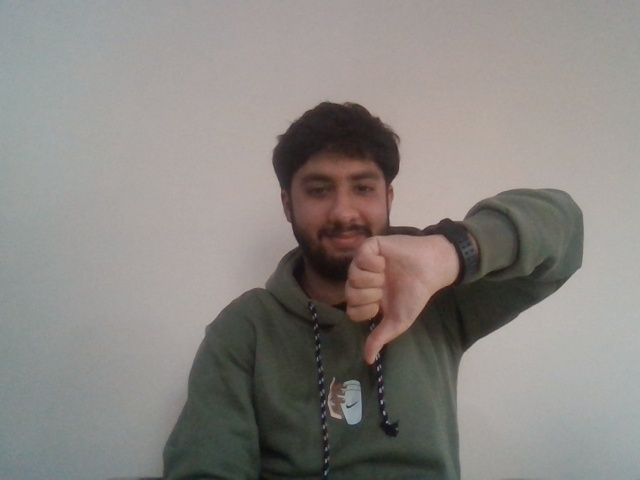No: (338, 227, 439, 363)
